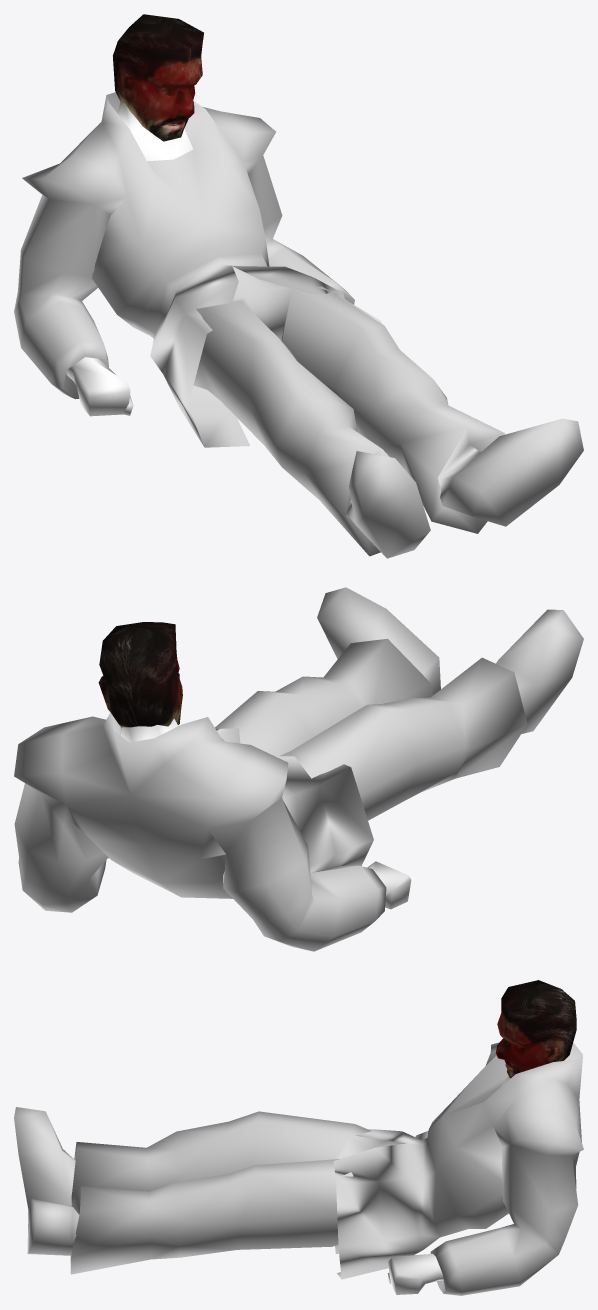
The model's file is KM_CITYONFIRE_CORPSE_CITIZEN_01.glb.
3 views of the same model, one above another, from view 1: azimuth 30°, elevation 25°; view 2: azimuth 150°, elevation 25°; view 3: azimuth 270°, elevation 25° (orthographic). The views are drawn at different scales.
Visible parts, largest first — view 1: Mesh; view 2: Mesh; view 3: Mesh.
Part boxes in pixels (left/top/right/bottom): Mesh: left=14, top=14, right=583, bottom=558; Mesh: left=14, top=587, right=583, bottom=951; Mesh: left=14, top=980, right=583, bottom=1295.
Bounding box in the file's own units: 0.8109 × 0.8442 × 1.56.
Materials: 3 (1 with a texture image).
